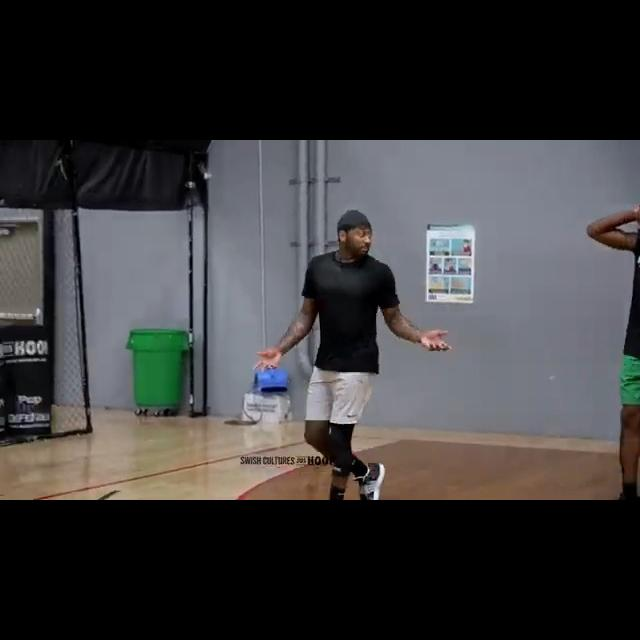person: (254, 204, 453, 500), (584, 188, 640, 500)
